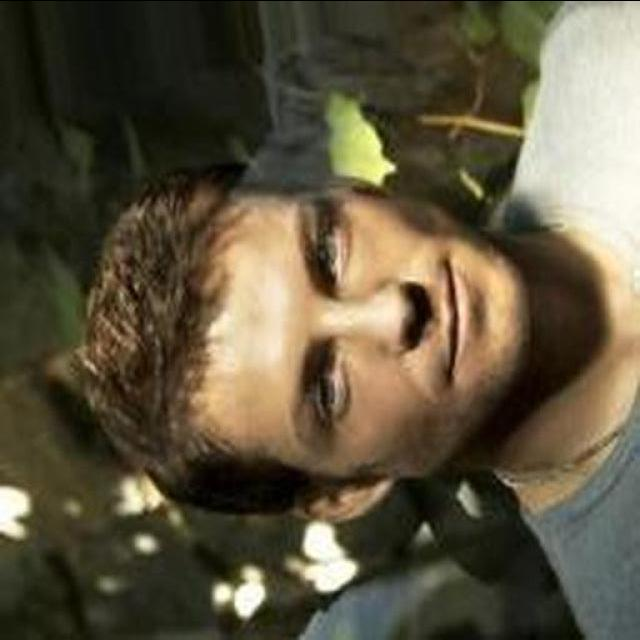bareface: (87, 186, 544, 497)
